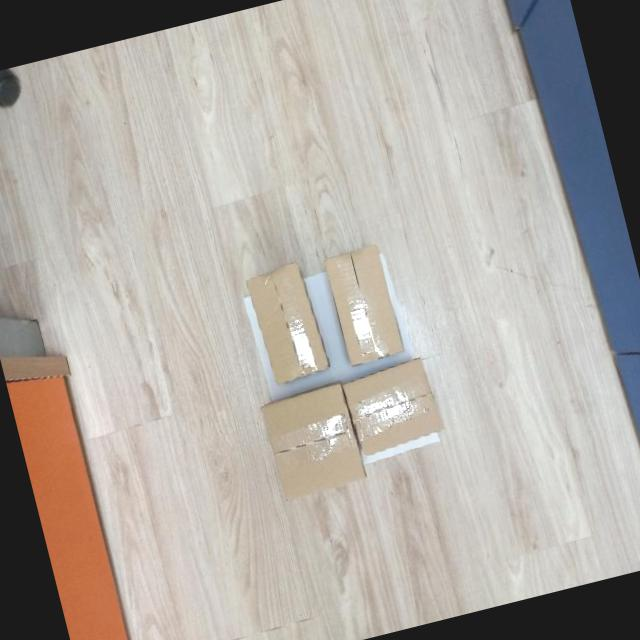box: (256, 378, 368, 504), (241, 259, 331, 389), (339, 354, 449, 459), (320, 239, 407, 371)
